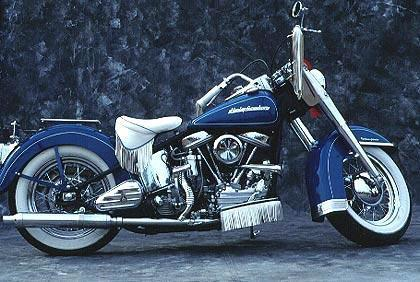motorcycle: (1, 21, 420, 262)
